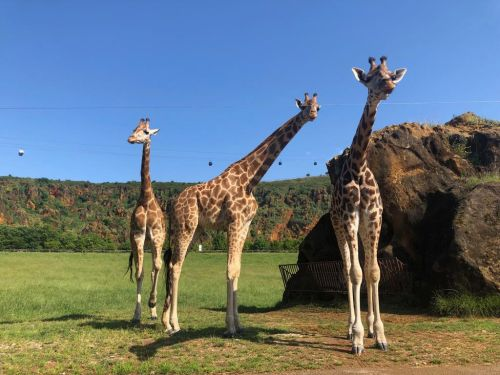Jirafa: (349, 45, 423, 139), (270, 76, 336, 140), (117, 111, 162, 164)
